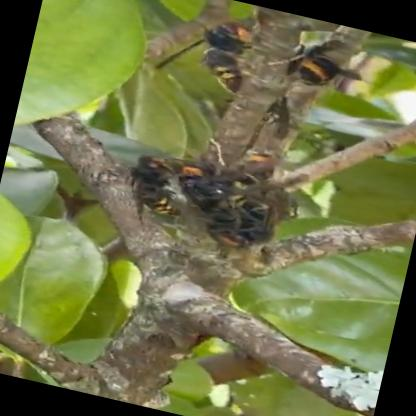bee: (164, 126, 304, 268), (159, 2, 259, 112), (105, 137, 196, 243), (278, 32, 366, 112)
